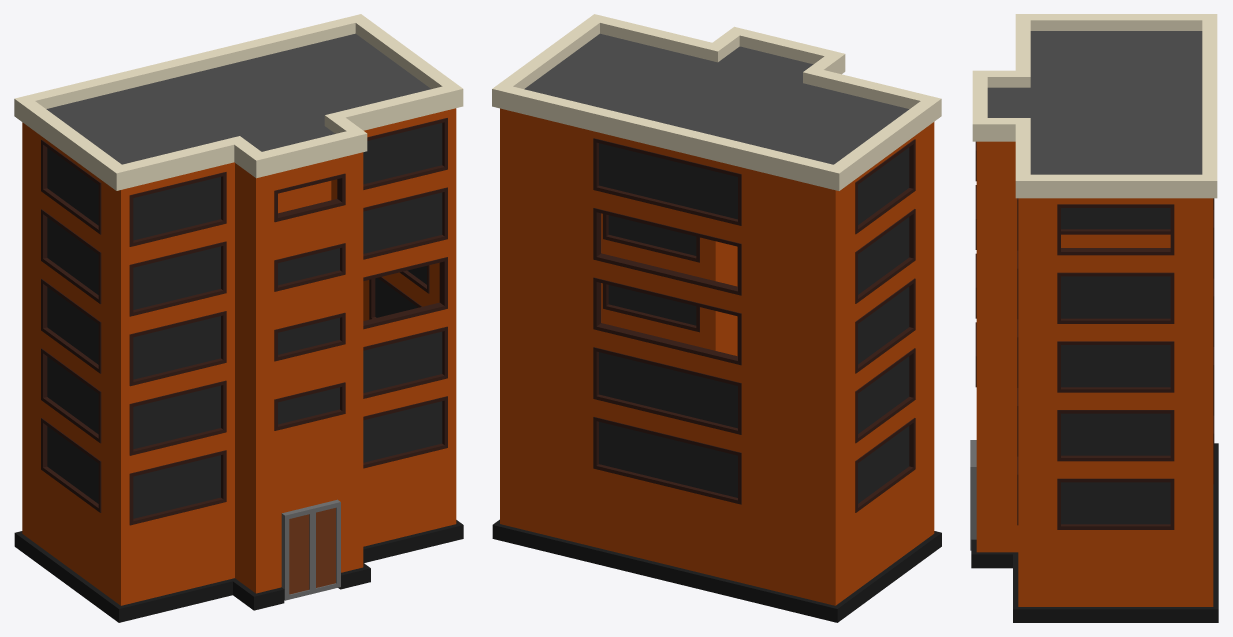
The picture shows the model from 3 angles, left to right: view 1: azimuth 30°, elevation 25°; view 2: azimuth 150°, elevation 25°; view 3: azimuth 270°, elevation 25°; orthographic projection.
Visible parts, largest first — view 1: Cornicione.006; view 2: Cornicione.006; view 3: Cornicione.006.
Boxes of the visible parts, box(x1,y1,x2,y2) form: Cornicione.006: box(14, 14, 463, 622); Cornicione.006: box(492, 14, 941, 622); Cornicione.006: box(970, 14, 1218, 622).
Bounding box in the file's own units: 1348 × 1667 × 847.
